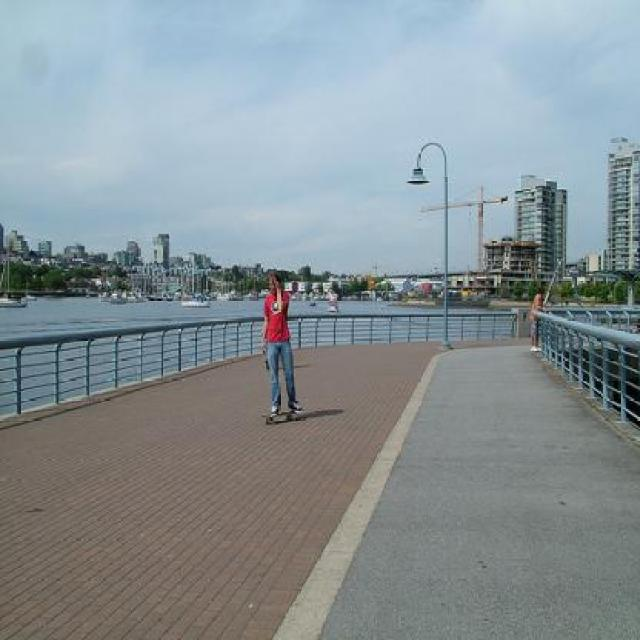ship: (0, 242, 29, 309), (178, 249, 210, 308)
